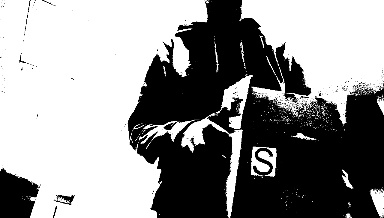S: (252, 146, 275, 176)
